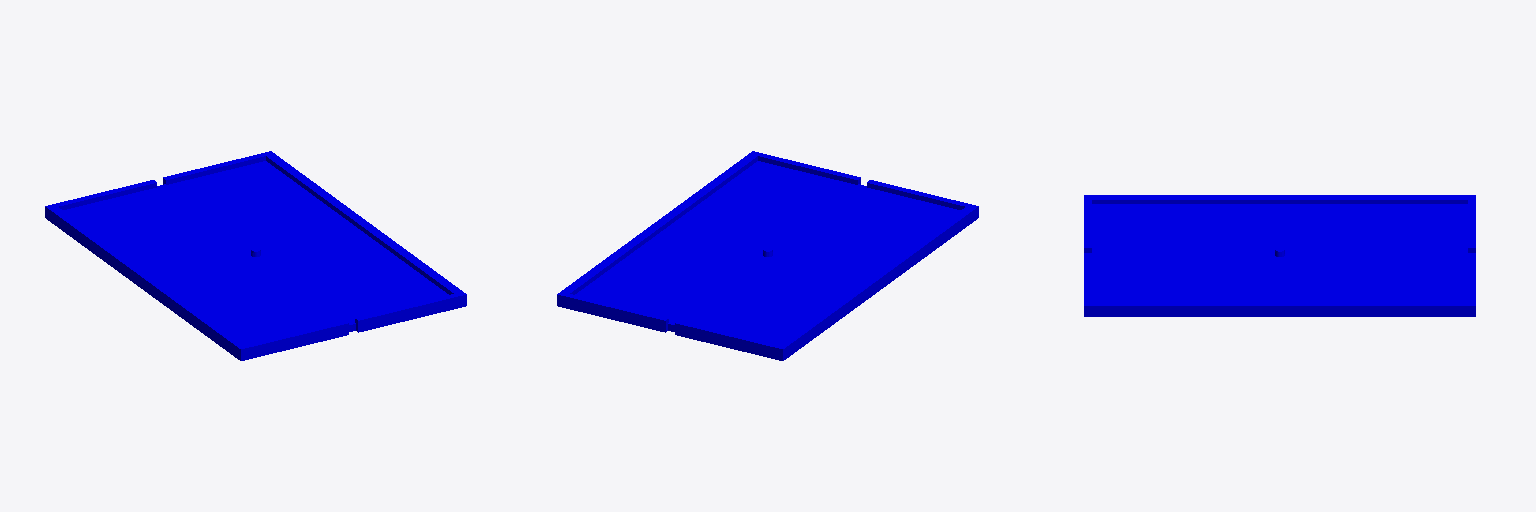
The model's file is SOG_Base.obj.
3 renders of one model, left to right at view 1: azimuth 30°, elevation 25°; view 2: azimuth 150°, elevation 25°; view 3: azimuth 270°, elevation 25°, orthographic.
Parts seen in each view (by area): view 1: SOG_Base.obj; view 2: SOG_Base.obj; view 3: SOG_Base.obj.
Boxes of the visible parts, box(x1,y1,x2,y2) form: SOG_Base.obj: box(45, 151, 466, 360); SOG_Base.obj: box(557, 151, 978, 360); SOG_Base.obj: box(1084, 195, 1475, 316).
Bounding box in the file's own units: 4.28 × 0.2228 × 6.43.